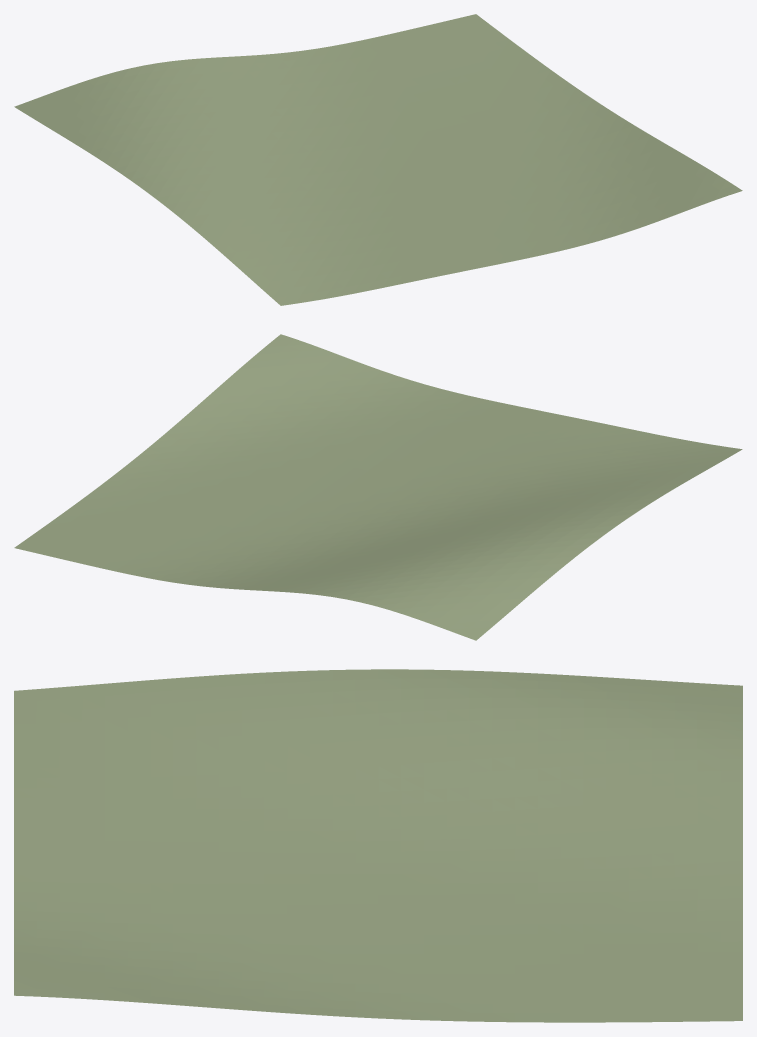
Rendered from desert-6-9.glb.
3 renders of one model, top to bottom at view 1: azimuth 30°, elevation 25°; view 2: azimuth 150°, elevation 25°; view 3: azimuth 270°, elevation 25°, orthographic. The views are drawn at different scales.
Visible parts, largest first — view 1: desert-6-9; view 2: desert-6-9; view 3: desert-6-9.
Boxes of the visible parts, bbox=[...] form: desert-6-9: bbox=[14, 14, 742, 305]; desert-6-9: bbox=[14, 334, 742, 640]; desert-6-9: bbox=[14, 669, 742, 1022].
Size of the model in its own units: 512 by 35.55 by 512.
